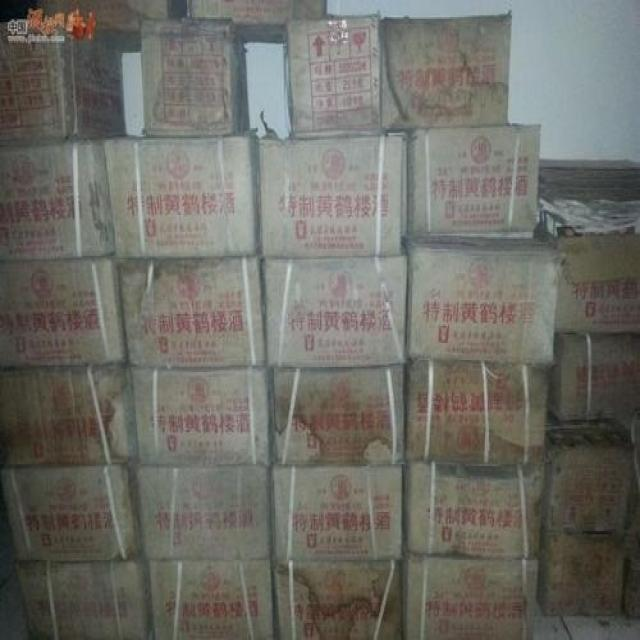box: (104, 131, 260, 258), (407, 241, 562, 367), (262, 239, 408, 369), (259, 137, 407, 258), (535, 167, 640, 333), (119, 253, 266, 367), (407, 125, 543, 242), (0, 19, 127, 142), (403, 358, 550, 464), (381, 12, 512, 130), (402, 531, 540, 640), (128, 365, 273, 468), (0, 254, 128, 370), (0, 137, 115, 261), (0, 365, 137, 466), (273, 364, 406, 468), (0, 464, 143, 560), (402, 463, 544, 558), (133, 466, 273, 560), (141, 19, 251, 135), (273, 463, 403, 560), (284, 17, 383, 140), (540, 408, 636, 532), (18, 555, 151, 640), (273, 558, 401, 640), (148, 558, 275, 640), (536, 522, 627, 620), (548, 331, 640, 422), (32, 0, 186, 53), (186, 0, 328, 44)
